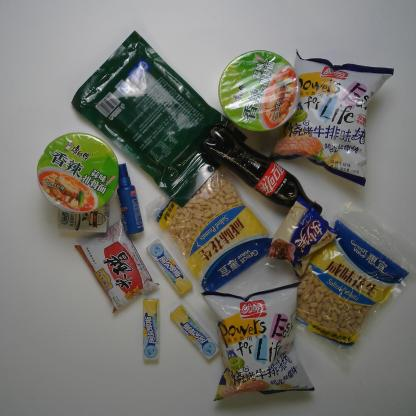Candy: (168, 304, 220, 362), (146, 238, 194, 294), (140, 297, 163, 362)
Dessert: (266, 195, 340, 277)
Dried Food: (70, 29, 247, 209)
Dried Fruit: (288, 200, 412, 350), (144, 166, 274, 293)
Drink: (198, 126, 325, 218)
Instant Noodles: (216, 49, 302, 134), (35, 130, 120, 216)
Milk: (55, 206, 110, 234)
Personal Hygiene: (113, 161, 146, 236)
Puffed Food: (265, 49, 394, 188), (200, 281, 316, 401)
Seasoner: (72, 218, 162, 314)
